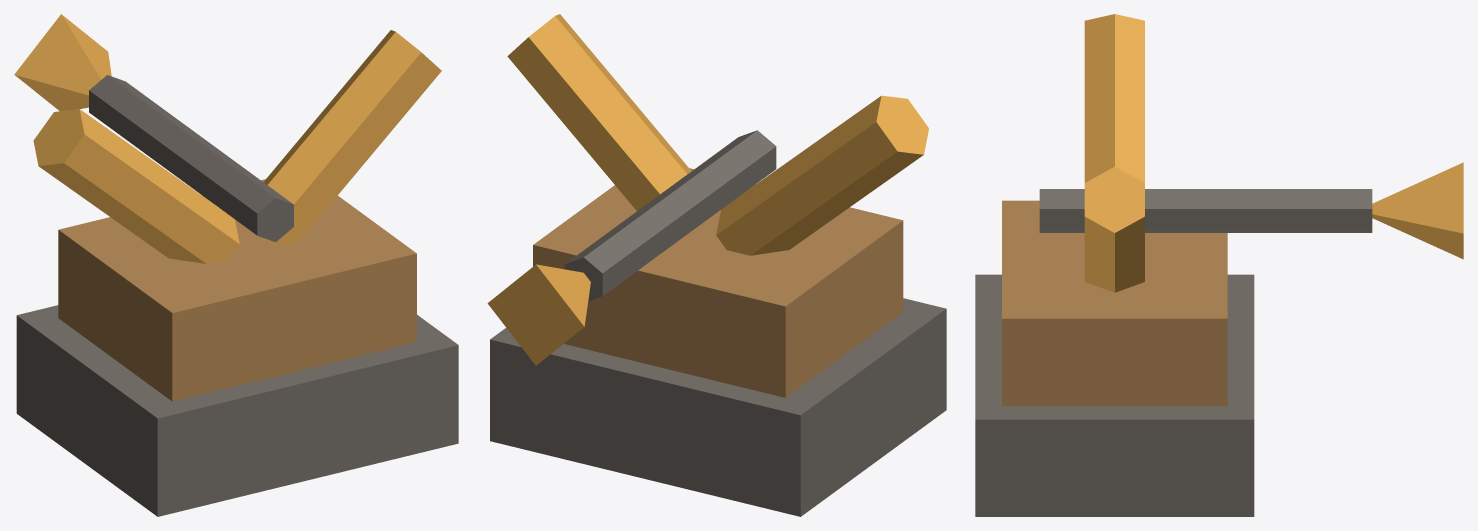
File: Carpenter_DeckBallista_Blockout.fbx
The picture shows the model from 3 angles, left to right: view 1: azimuth 30°, elevation 25°; view 2: azimuth 150°, elevation 25°; view 3: azimuth 270°, elevation 25°; orthographic projection. The views are drawn at different scales.
Visible parts, largest first — view 1: Carpenter_DeckBallista; view 2: Carpenter_DeckBallista; view 3: Carpenter_DeckBallista.
Boxes of the visible parts, x1,y1,x2,y2 form: Carpenter_DeckBallista: (14,14,458,516); Carpenter_DeckBallista: (487,14,946,516); Carpenter_DeckBallista: (975,14,1463,516).
Bounding box in the file's own units: 0.8474 × 0.7281 × 0.91.
